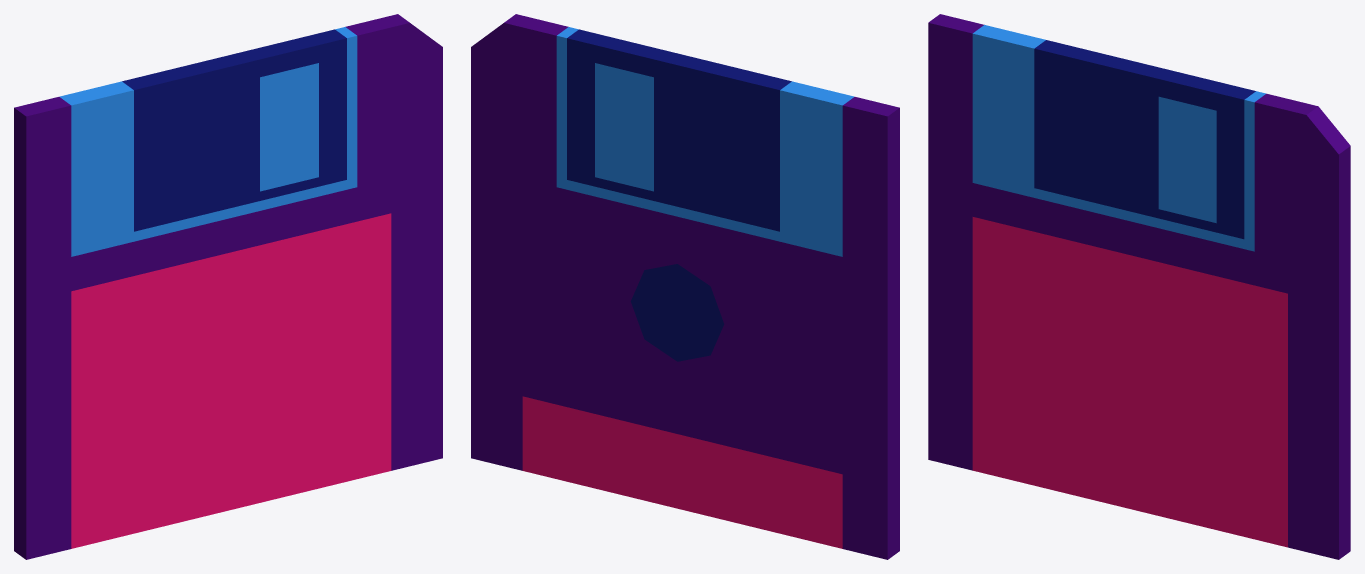
File: floppy_purplepink.FBX
3 renders of one model, left to right at view 1: azimuth 30°, elevation 25°; view 2: azimuth 150°, elevation 25°; view 3: azimuth 330°, elevation 25°, orthographic.
Visible parts, largest first — view 1: floppy_purplepink; view 2: floppy_purplepink; view 3: floppy_purplepink.
Part boxes in pixels (box(x1,y1,x2,y2)): floppy_purplepink: box(14, 14, 442, 559); floppy_purplepink: box(471, 14, 899, 559); floppy_purplepink: box(928, 14, 1350, 559).
Size of the model in its own units: 54.75 by 55.69 by 2.75.
